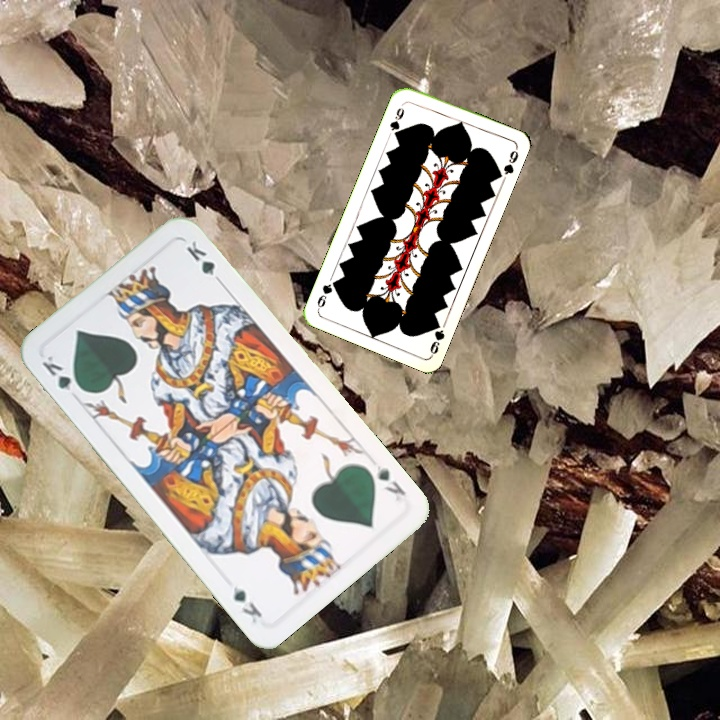G9: (426, 317, 447, 358), (386, 103, 407, 139)
GK: (37, 351, 87, 402), (372, 461, 408, 505)
